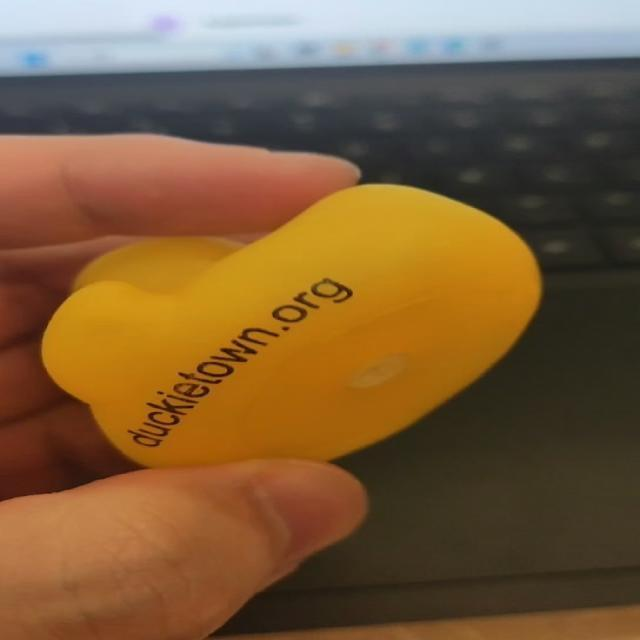rubber-duck: (41, 184, 539, 464)
